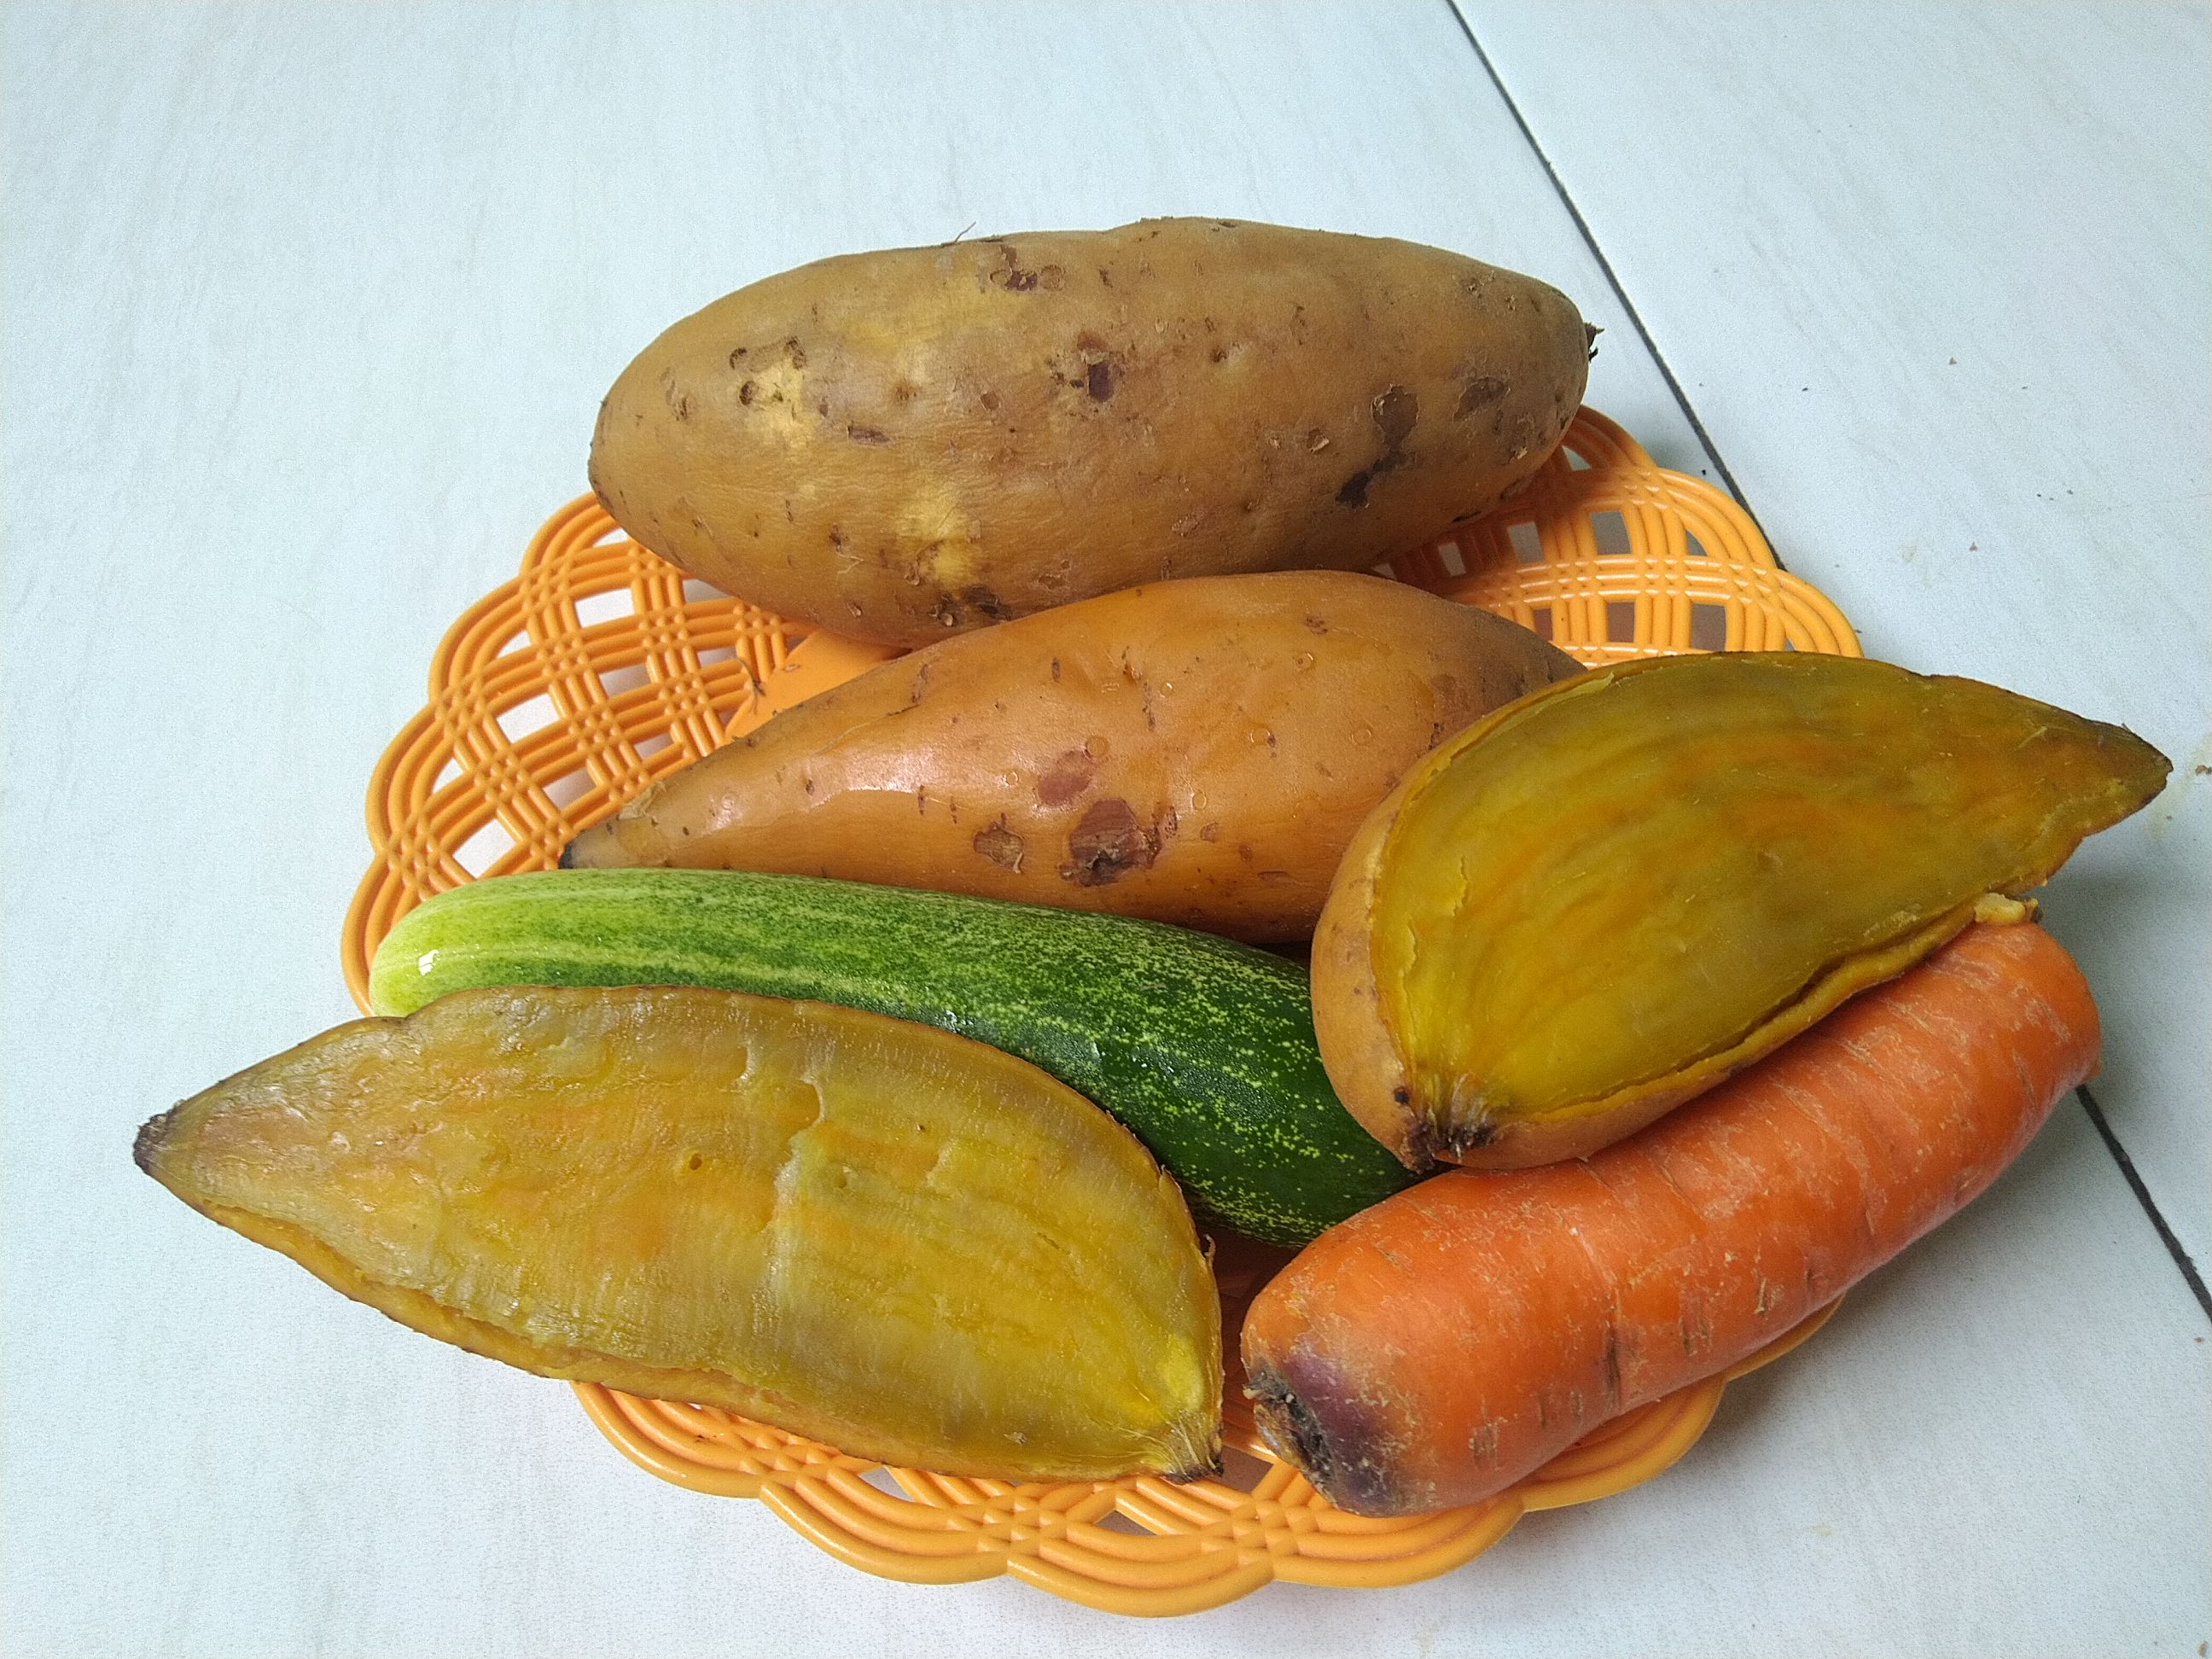ubi cilembu: (118, 978, 1226, 1490), (1315, 641, 2175, 1145), (585, 206, 1615, 586), (564, 579, 1620, 906)
